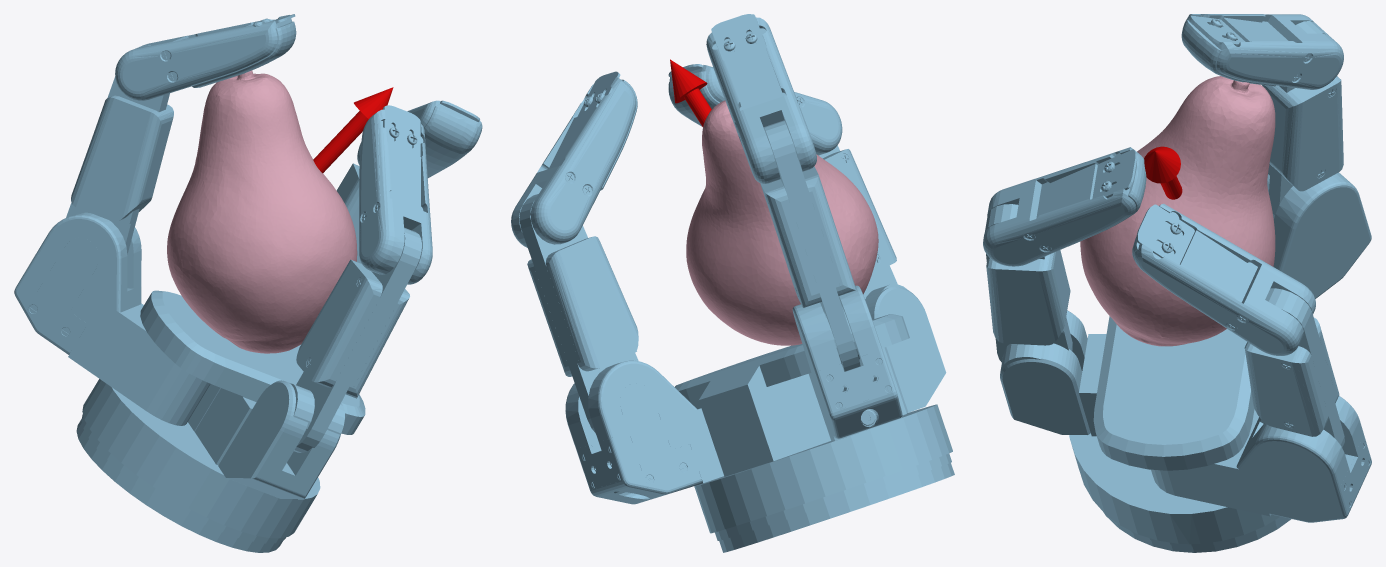
3 renders of one model, left to right at view 1: azimuth 30°, elevation 25°; view 2: azimuth 150°, elevation 25°; view 3: azimuth 270°, elevation 25°, orthographic. The views are drawn at different scales.
Parts seen in each view (by area): view 1: world, pear.stl; view 2: world, pear.stl; view 3: world, pear.stl.
Part boxes in pixels (<box>): world: <box>14,14,482,552</box>; pear.stl: <box>167,70,357,353</box>; world: <box>511,14,954,552</box>; pear.stl: <box>686,100,878,345</box>; world: <box>983,14,1371,552</box>; pear.stl: <box>1080,76,1275,346</box>.
Size of the model in its own units: 0.1622 by 0.2005 by 0.1309.
